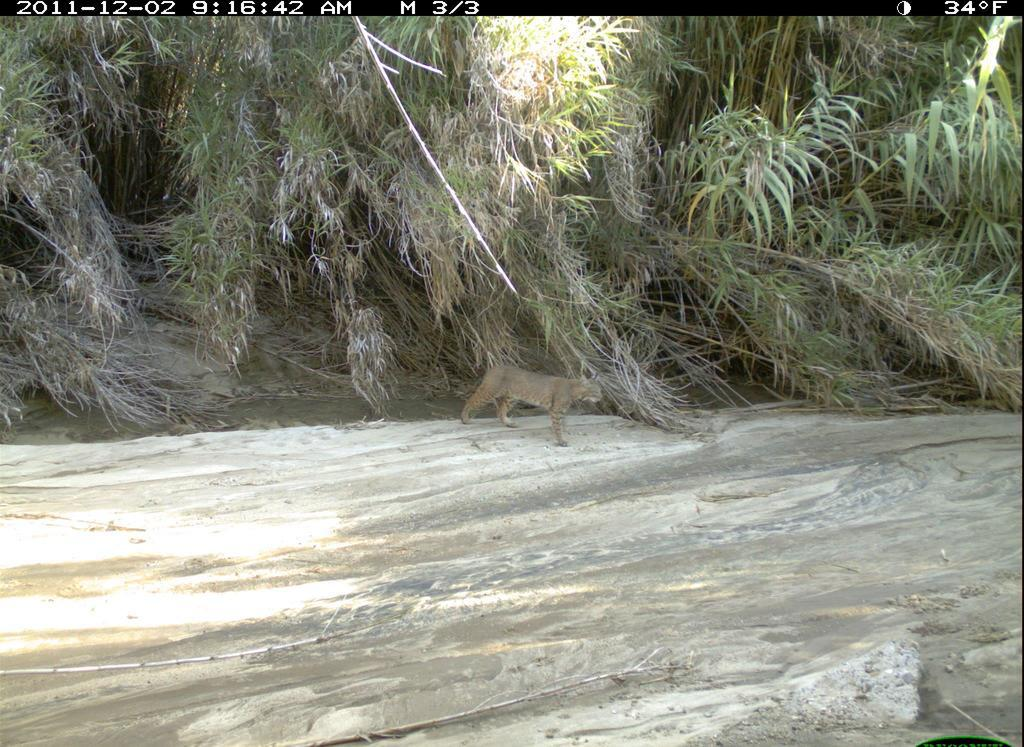bobcat: (424, 319, 626, 486)
